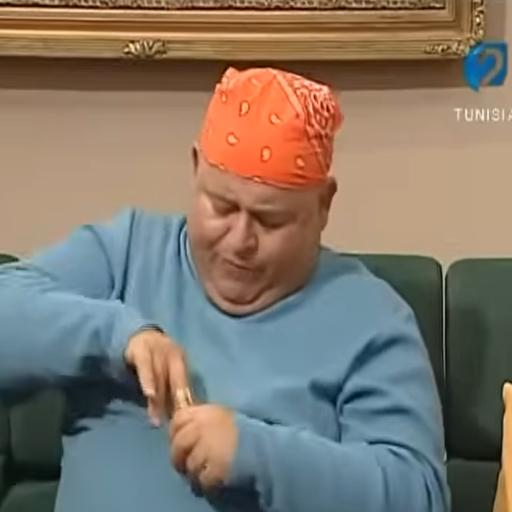sboui: (188, 68, 342, 315)
